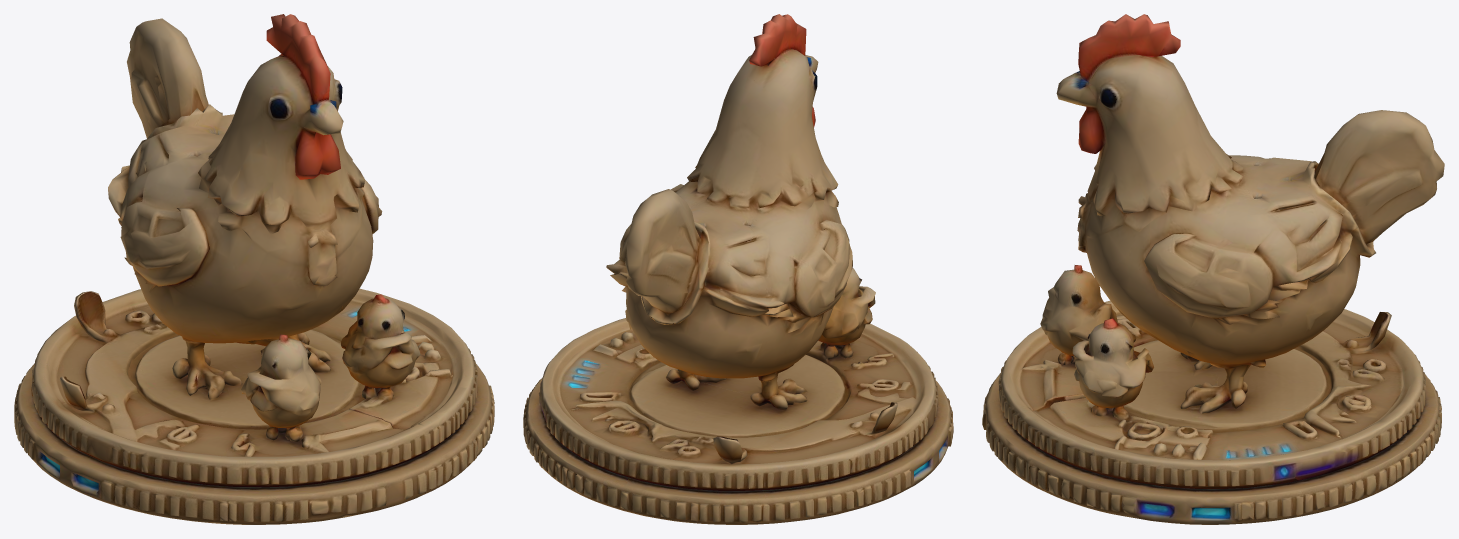
File: small_fry.glb
The picture shows the model from 3 angles, left to right: view 1: azimuth 30°, elevation 25°; view 2: azimuth 150°, elevation 25°; view 3: azimuth 270°, elevation 25°; orthographic projection. The views are drawn at different scales.
Parts seen in each view (by area): view 1: tripo_node_7384b637-1763-4efb-ae03-925272ddcaa4; view 2: tripo_node_7384b637-1763-4efb-ae03-925272ddcaa4; view 3: tripo_node_7384b637-1763-4efb-ae03-925272ddcaa4.
Boxes of the visible parts, x1,y1,x2,y2 form: tripo_node_7384b637-1763-4efb-ae03-925272ddcaa4: (14, 14, 494, 524); tripo_node_7384b637-1763-4efb-ae03-925272ddcaa4: (523, 14, 953, 524); tripo_node_7384b637-1763-4efb-ae03-925272ddcaa4: (982, 14, 1444, 524).
Bounding box in the file's own units: 0.9634 × 0.9721 × 0.9778.
1 material, 1 textured.
